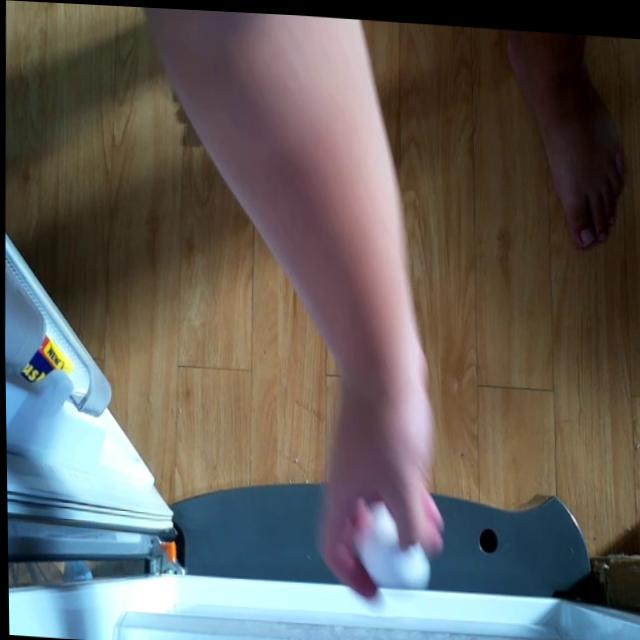egg: (353, 498, 420, 590)
